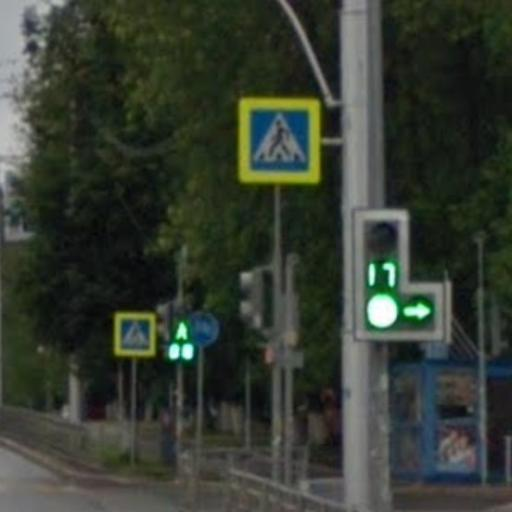traffic_sign: (240, 99, 323, 184), (114, 313, 156, 357)
